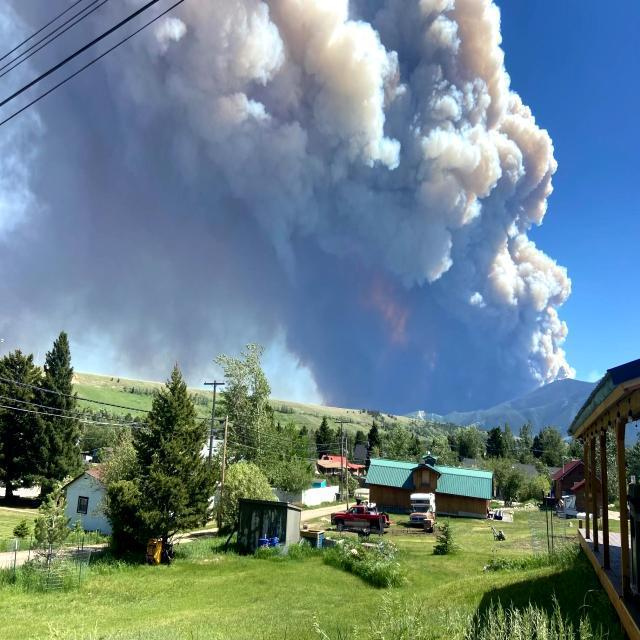Smoke: (0, 0, 583, 412)
